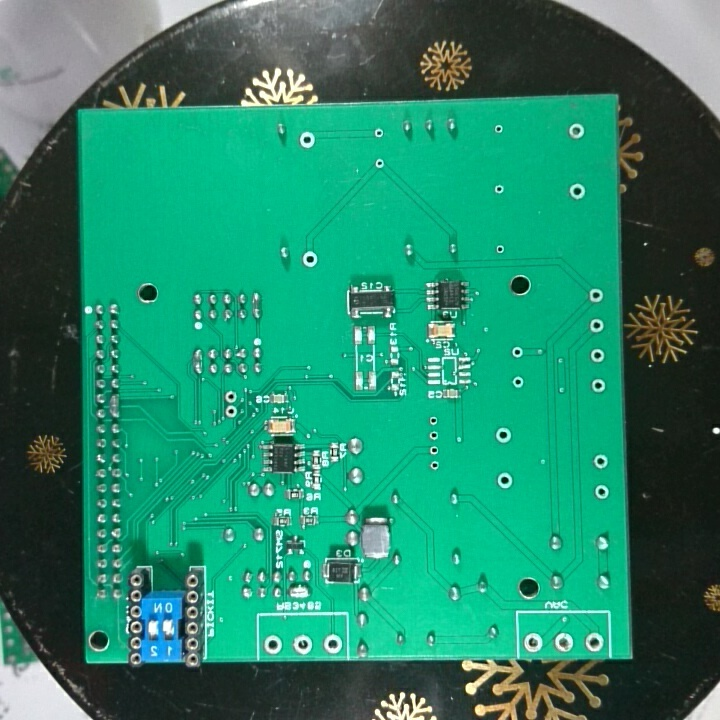F: (550, 630, 577, 655), (522, 630, 545, 657), (565, 119, 589, 143), (582, 630, 605, 654), (262, 632, 285, 655), (291, 634, 314, 657), (320, 632, 343, 655), (494, 469, 516, 493), (298, 246, 319, 269), (590, 450, 610, 473), (566, 181, 587, 202), (493, 426, 514, 447), (297, 129, 317, 151), (586, 286, 607, 306), (591, 482, 611, 503), (588, 376, 607, 396), (588, 316, 606, 337), (588, 346, 605, 367), (371, 153, 389, 172), (508, 372, 525, 391), (491, 180, 508, 198), (491, 240, 508, 258), (428, 456, 444, 475), (222, 388, 239, 405), (222, 403, 239, 420), (509, 344, 525, 362), (491, 120, 507, 137), (372, 123, 386, 142), (425, 413, 442, 428), (427, 427, 442, 443), (427, 443, 443, 458)
P: (249, 290, 263, 323), (286, 583, 313, 600), (106, 392, 122, 419), (191, 346, 205, 375)
